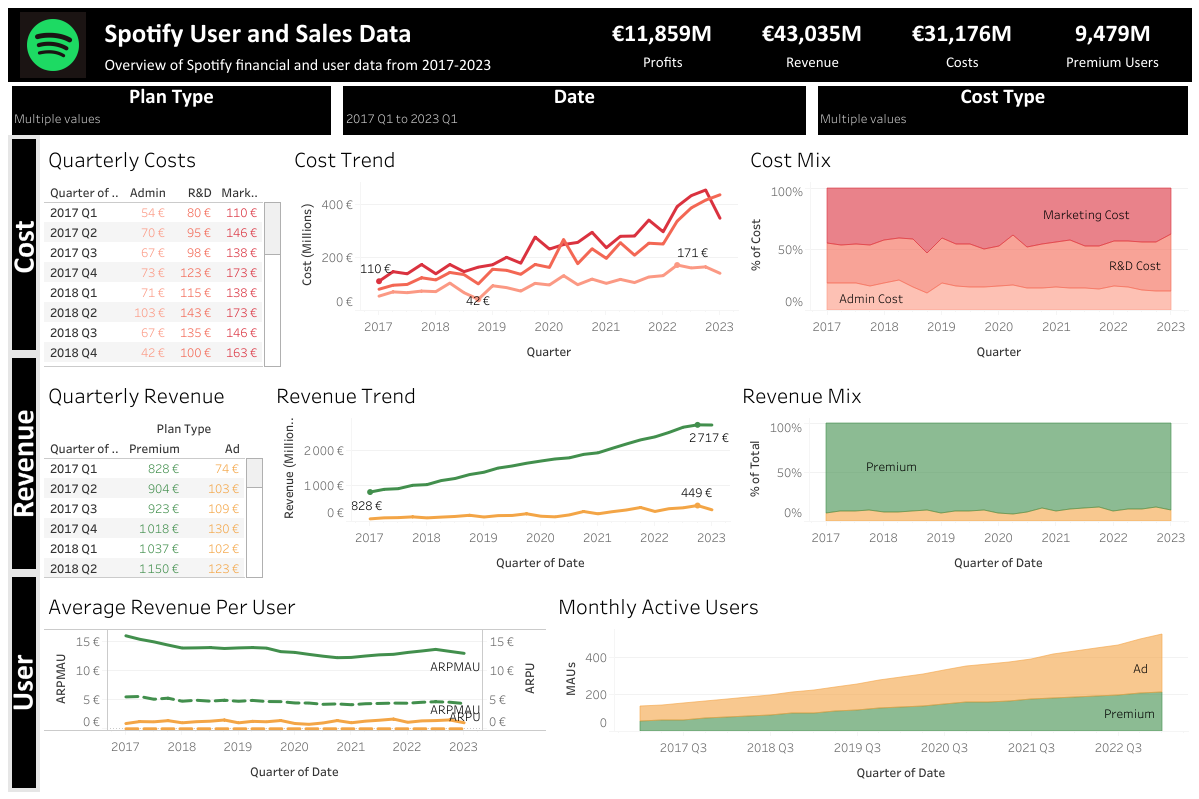

The dashboard page shown, as its layout file describes it:
{"tool":"tableau","page":{"name":"Main Dashboard","canvas":[1200,800],"ordinal":0},"visuals":[{"type":"image","param":"Image/Spotify_App_Logo-900x900.png","box":[8,8,90,74]},{"type":"text","box":[98,8,486,74]},{"type":"worksheet","title":"Big #s","mark":"Automatic","box":[584,8,608,74]},{"type":"filter","title":"Revenue-Graph","param":"[federated.1xe2xdp0iwlybi1b3sk2i0g74h62].[none:Type:nk]","box":[8,82,278,53]},{"type":"filter","title":"Cost-Graph","param":"[federated.1xe2xdp0iwlybi1b3sk2i0g74h62].[tqr:Date (Spotify Quarterly_2.csv):qk]","box":[286,82,472,53]},{"type":"filter","title":"Cost-Graph","param":"[federated.1xe2xdp0iwlybi1b3sk2i0g74h62].[:Measure Names]","box":[758,82,434,53]},{"type":"image","param":"Image/COST.png","box":[8,135,32,219]},{"type":"worksheet","title":"Cost-Table","mark":"Automatic","rows":["Date (Spotify Quarterly_2.csv)"],"box":[40,135,246,219]},{"type":"worksheet","title":"Cost-Graph","mark":"Line","cols":["Date (Spotify Quarterly_2.csv)"],"box":[286,135,472.5,219]},{"type":"worksheet","title":"Cost-Graph %","mark":"Area","cols":["Date (Spotify Quarterly_2.csv)"],"box":[758.5,135,433.5,219]},{"type":"image","param":"Image/REVENUE.png","box":[8,354,32,219]},{"type":"worksheet","title":"Revenue-Table","mark":"Automatic","rows":["Date"],"cols":["Type"],"box":[40,354,246,228]},{"type":"worksheet","title":"Revenue-Graph","mark":"Automatic","rows":["Revenue"],"cols":["Date"],"box":[286,354,472,228]},{"type":"worksheet","title":"Revenue-Graph %","mark":"Area","cols":["Date"],"box":[758,354,434,228]},{"type":"image","param":"Image/USER.png","box":[8,573,32,219]},{"type":"worksheet","title":"ARPUs","mark":"Automatic","rows":["ARPMAU","ARPU"],"cols":["Date"],"box":[40,582,510,210]},{"type":"worksheet","title":"MAUs","mark":"Area","rows":["MAUs (Spotify Quarterly_2.csv)"],"cols":["Date"],"box":[550,582,642,210]}]}

Visuals, with their boxes in screenshot pixels (x1, y1, x2, y2), scaled from the page's 1200x800 canvas onto the 1199x799 screenshot:
image: box=[8, 8, 98, 82]
text: box=[98, 8, 584, 82]
"Big #s" worksheet: box=[584, 8, 1191, 82]
"Revenue-Graph" filter: box=[8, 82, 286, 135]
"Cost-Graph" filter: box=[286, 82, 757, 135]
"Cost-Graph" filter: box=[757, 82, 1191, 135]
image: box=[8, 135, 40, 354]
"Cost-Table" worksheet: box=[40, 135, 286, 354]
"Cost-Graph" worksheet (Line marks): box=[286, 135, 758, 354]
"Cost-Graph %" worksheet (Area marks): box=[758, 135, 1191, 354]
image: box=[8, 354, 40, 572]
"Revenue-Table" worksheet: box=[40, 354, 286, 581]
"Revenue-Graph" worksheet: box=[286, 354, 757, 581]
"Revenue-Graph %" worksheet (Area marks): box=[757, 354, 1191, 581]
image: box=[8, 572, 40, 791]
"ARPUs" worksheet: box=[40, 581, 550, 791]
"MAUs" worksheet (Area marks): box=[550, 581, 1191, 791]
